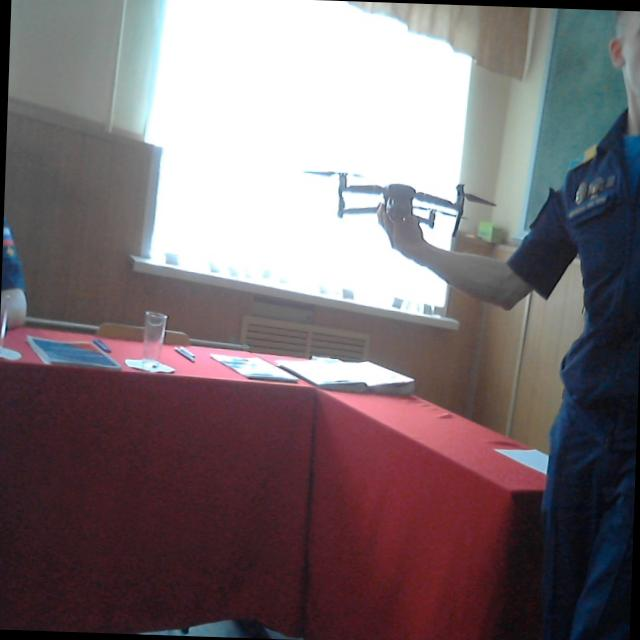drone: (300, 145, 502, 246)
